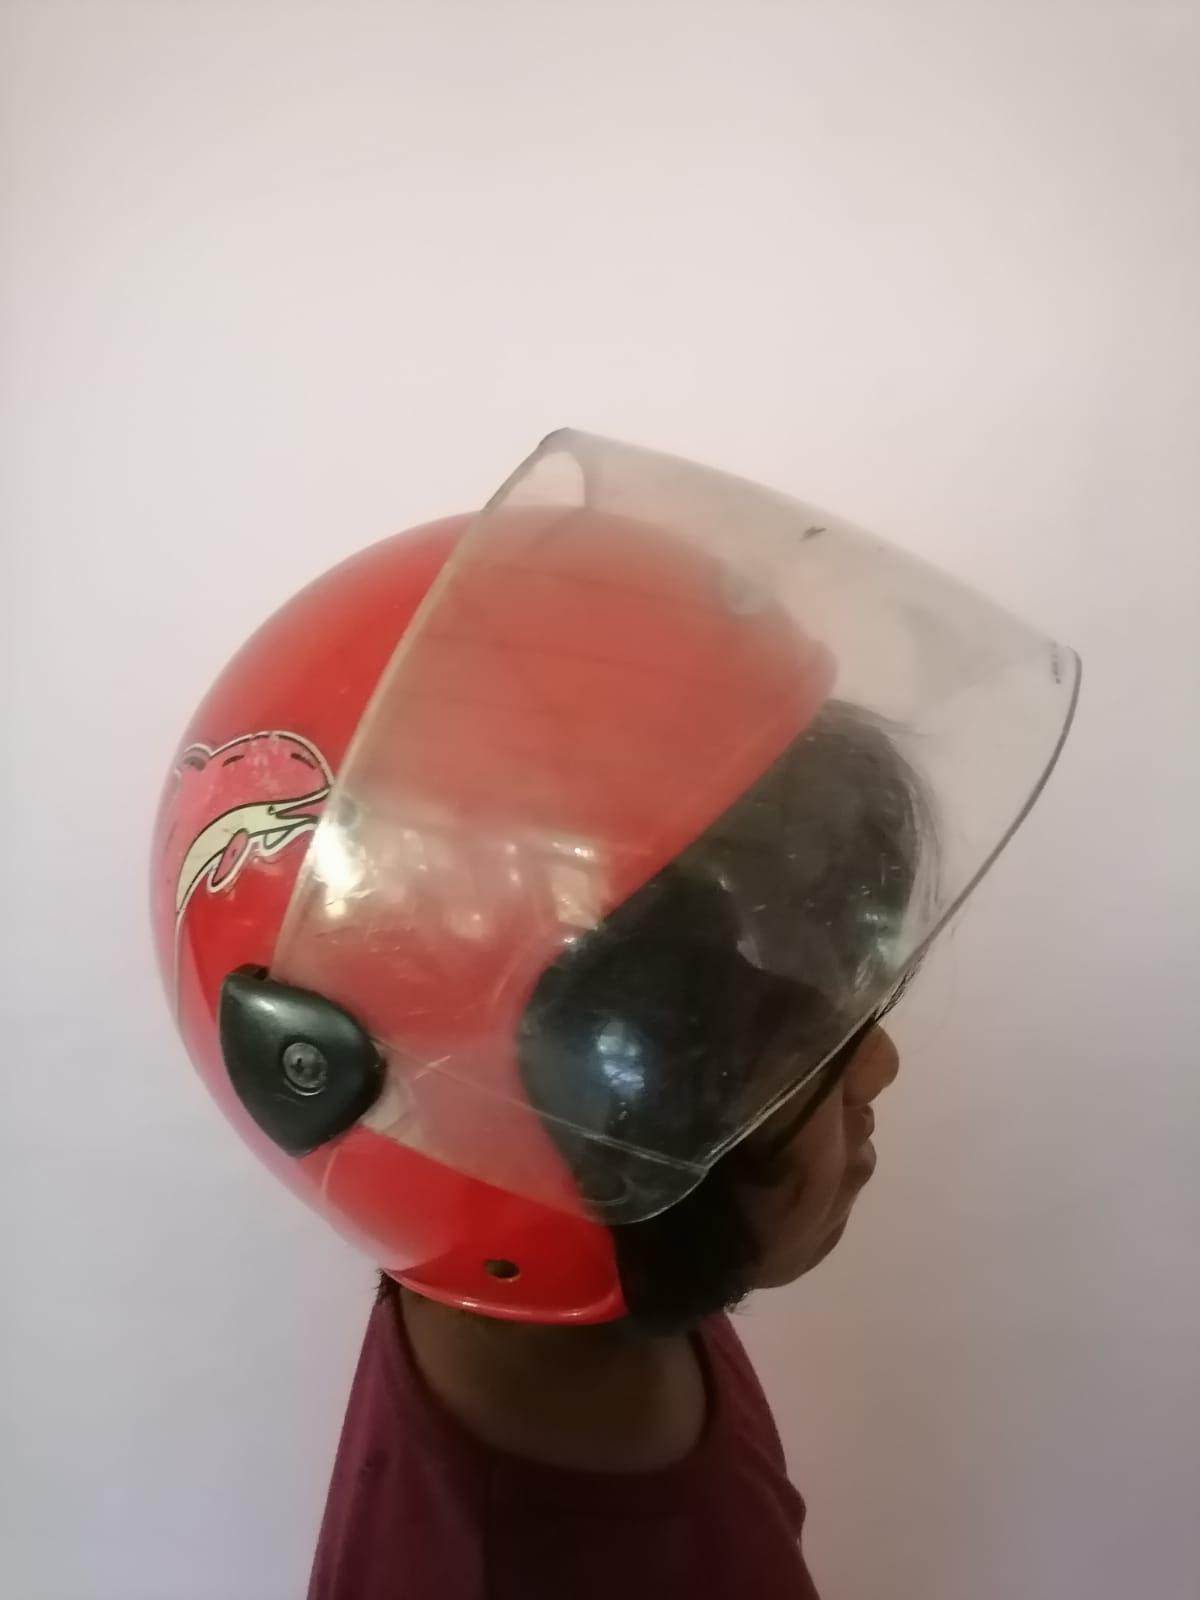helmet: (142, 422, 1087, 1340)
